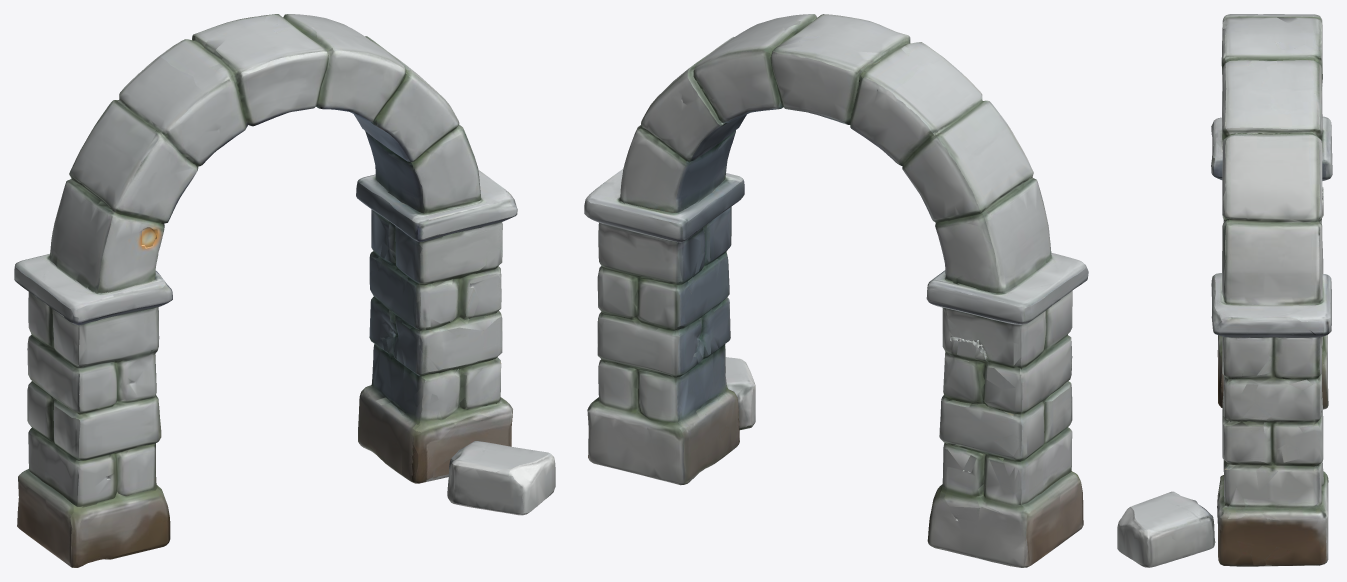
Rendered from ruins_arch.glb.
3 views of the same model, side by side, from view 1: azimuth 30°, elevation 25°; view 2: azimuth 150°, elevation 25°; view 3: azimuth 270°, elevation 25° (orthographic). The views are drawn at different scales.
Parts seen in each view (by area): view 1: geometry_0; view 2: geometry_0; view 3: geometry_0.
Part boxes in pixels (left/top/right/bottom): geometry_0: left=14, top=14, right=555, bottom=567; geometry_0: left=584, top=14, right=1088, bottom=567; geometry_0: left=1117, top=14, right=1332, bottom=567.
Size of the model in its own units: 5 by 4.95 by 2.22.
1 material, 1 textured.
